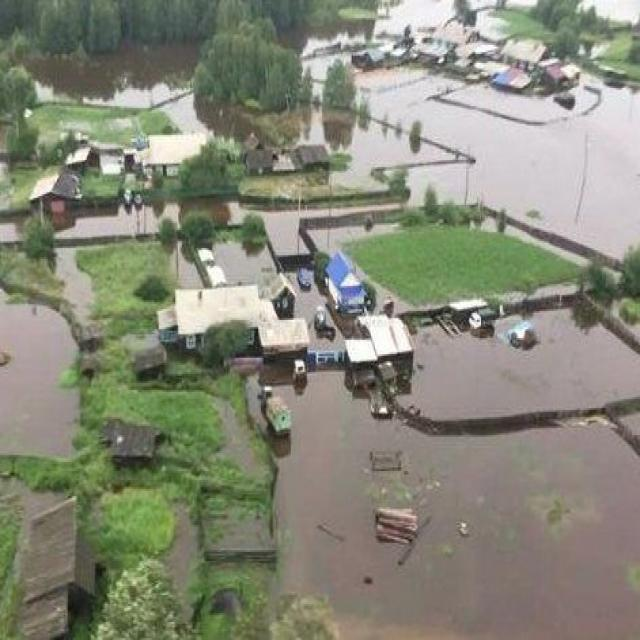flood: (27, 45, 640, 259), (275, 371, 640, 640), (401, 309, 640, 420), (301, 0, 452, 94), (0, 296, 78, 456), (59, 200, 251, 240), (260, 200, 393, 256), (57, 249, 92, 320), (216, 243, 276, 284), (509, 226, 581, 258), (310, 224, 398, 250), (311, 318, 359, 350), (170, 249, 202, 288), (298, 288, 327, 320), (597, 0, 640, 18), (379, 286, 409, 310)
house: (24, 498, 101, 640), (174, 284, 266, 340), (344, 310, 416, 380), (260, 313, 312, 356), (328, 250, 364, 311), (30, 174, 82, 208), (140, 134, 181, 177), (270, 272, 297, 316), (296, 144, 330, 172), (504, 48, 543, 71), (247, 148, 274, 174), (352, 48, 383, 70)
